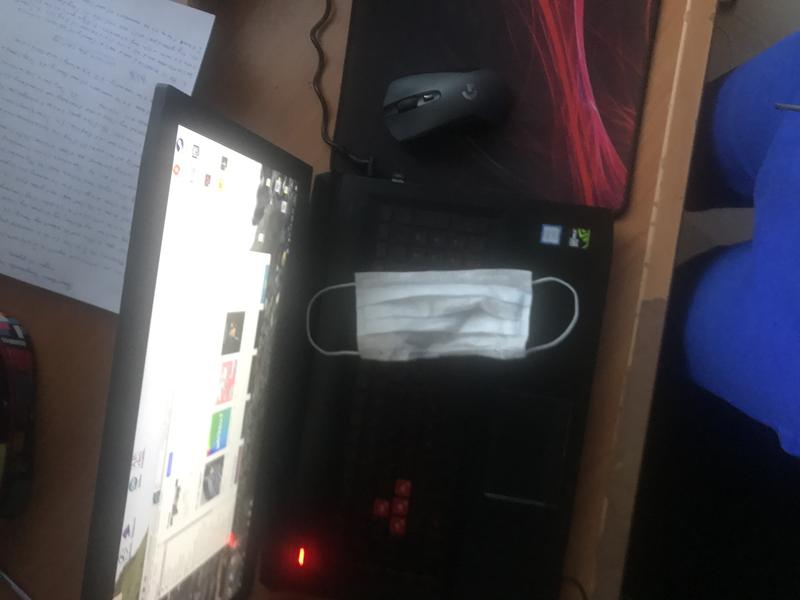medical_mask: (309, 270, 579, 360)
